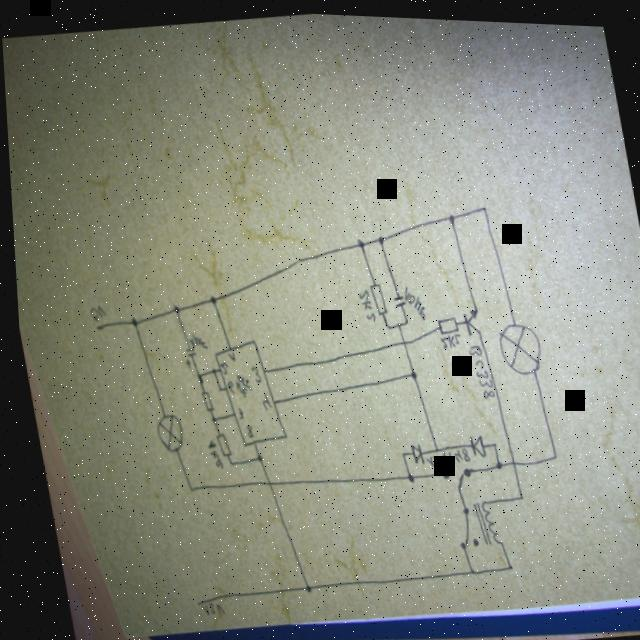capacitor: (177, 345, 192, 367), (387, 290, 402, 306)
crossover: (394, 333, 402, 344), (259, 476, 266, 486), (503, 454, 511, 462)
diode: (462, 428, 480, 455), (402, 438, 417, 462)
junction: (352, 233, 361, 245), (443, 208, 451, 221), (124, 314, 132, 326), (296, 579, 304, 591), (167, 302, 175, 312), (404, 365, 411, 376), (373, 231, 380, 242), (400, 468, 407, 479), (249, 451, 257, 460), (487, 456, 495, 465), (426, 442, 434, 450), (498, 558, 506, 566), (204, 293, 211, 302), (484, 435, 491, 444), (510, 488, 517, 497), (545, 447, 552, 455), (460, 564, 467, 572), (477, 199, 483, 208), (191, 371, 196, 381), (204, 365, 211, 372), (393, 447, 399, 455), (379, 320, 385, 326), (205, 414, 210, 421), (182, 485, 187, 491), (221, 458, 226, 464), (391, 317, 396, 323), (399, 315, 404, 321), (212, 384, 216, 390)
resistor: (364, 279, 383, 312), (431, 311, 454, 331), (208, 430, 224, 456), (195, 389, 208, 411)
switch: (434, 461, 467, 490)
terminal: (88, 321, 98, 331), (186, 598, 193, 605)
text: (462, 339, 490, 396), (416, 442, 463, 464), (398, 281, 422, 318), (352, 285, 370, 319), (199, 436, 216, 468), (227, 369, 247, 396), (182, 329, 202, 348), (192, 598, 215, 614), (434, 329, 456, 345), (84, 303, 102, 321), (253, 389, 266, 409), (244, 362, 256, 381), (213, 359, 223, 373), (238, 421, 247, 436), (220, 377, 229, 392), (229, 404, 238, 418), (221, 348, 230, 359)
transistor: (457, 303, 478, 332)
